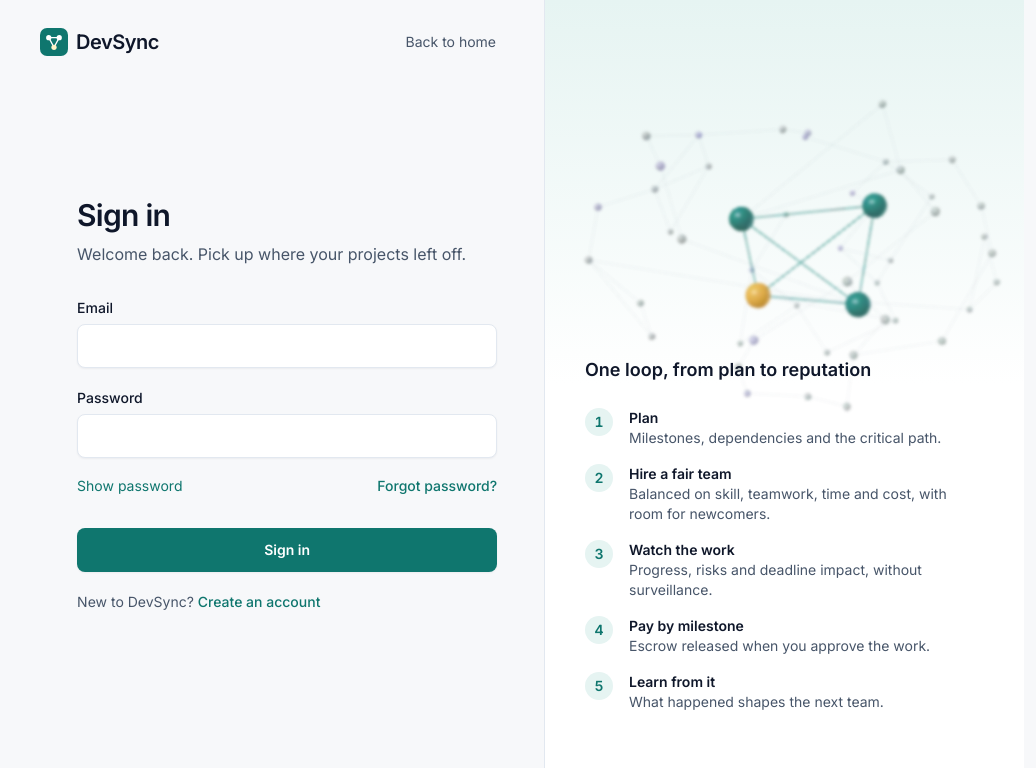
Test: LoginPage › solves the CAPTCHA when the server asks and retries
In the field labelled "Email": (287, 346) x1=77 y1=324 x2=497 y2=368, type "rahim@example.com"
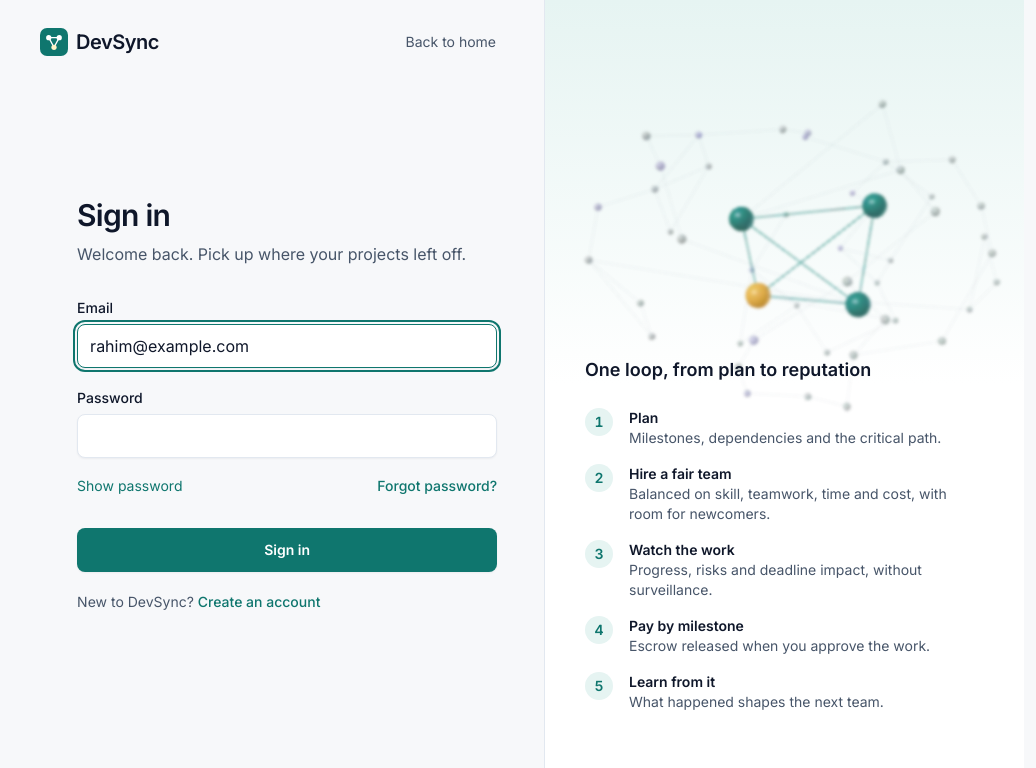
In the password field labelled "Password": (287, 436) x1=77 y1=414 x2=497 y2=458, type "a good password 1"
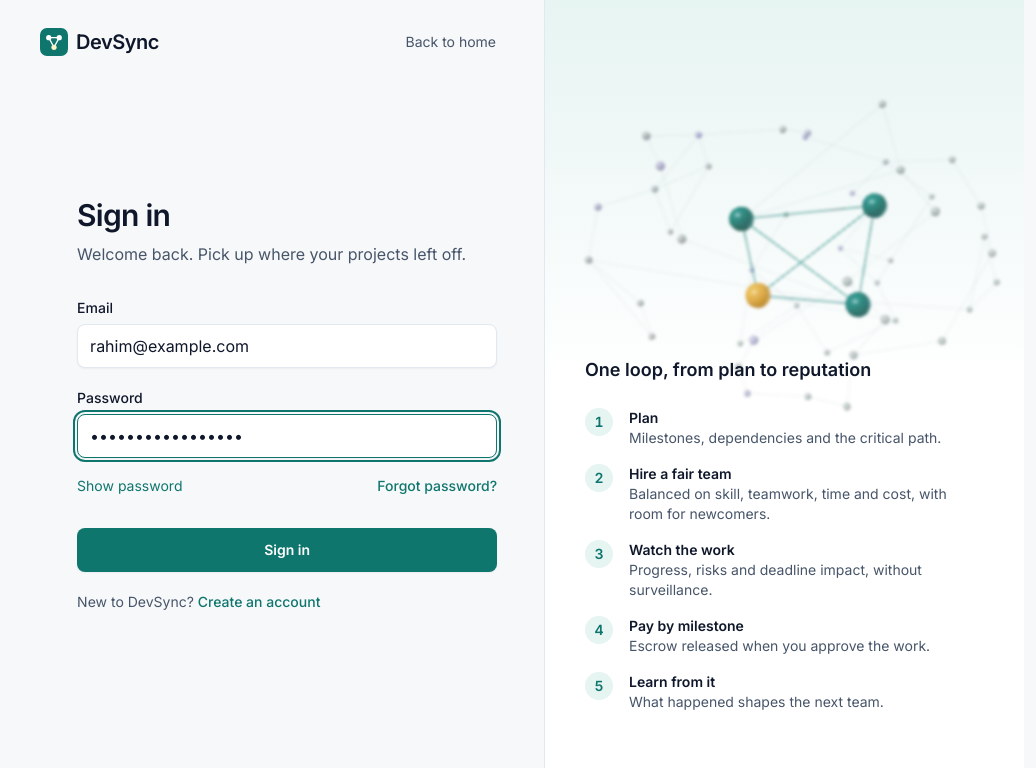
Click the button "Sign in": (287, 550) x1=77 y1=528 x2=497 y2=572
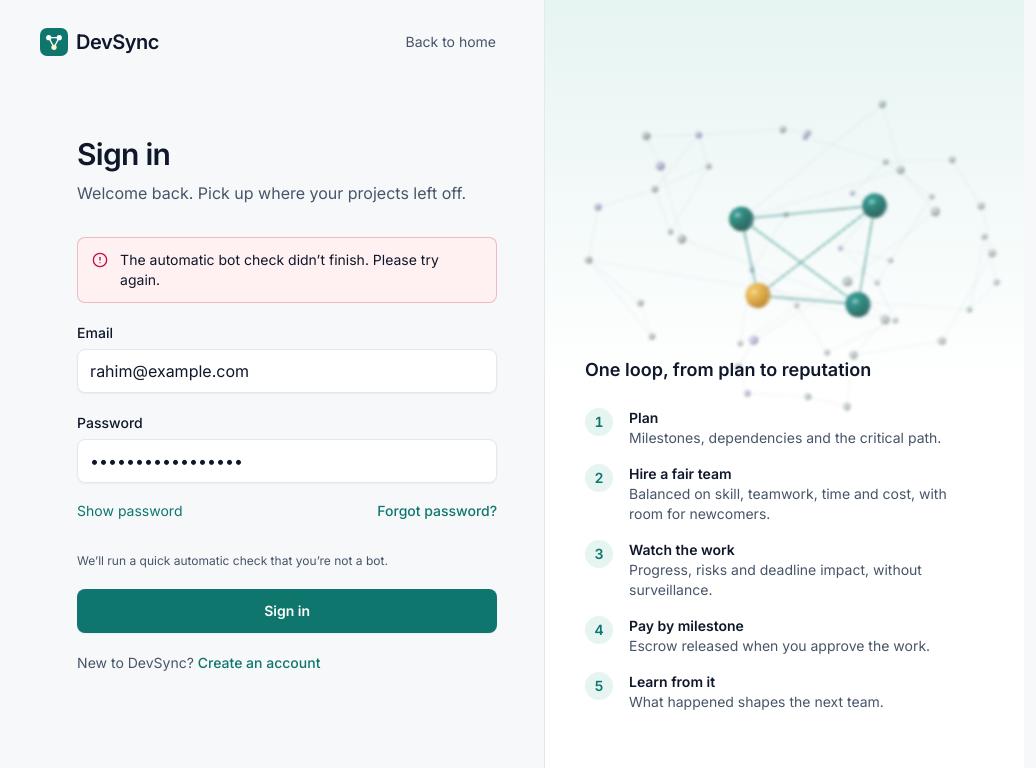
Result: the message shows "bot check didn’t finish" at x1=120 y1=251 x2=439 y2=288
